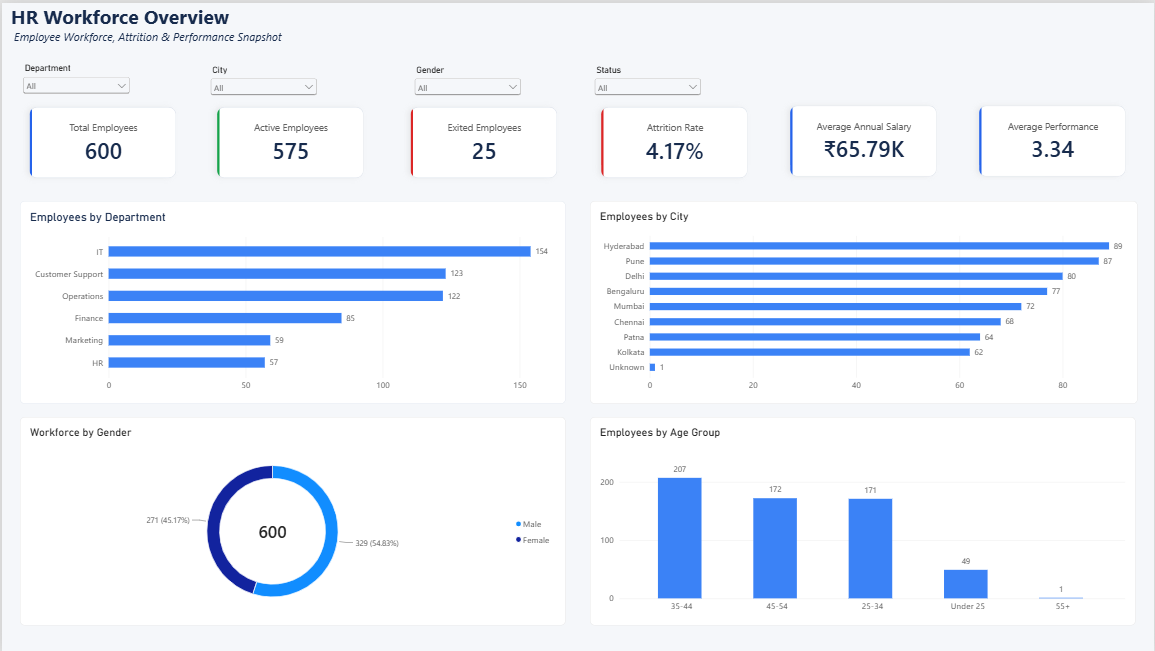

The dashboard page shown, as its layout file describes it:
{"tool":"powerbi","page":{"name":"HR Workforce Overview","canvas":[1920,1080],"ordinal":0},"visuals":[{"type":"cardVisual","fields":{"Data":["hr_analytics hr_employee_analytics.Total Employees"]},"box":[30.1,156.8,276,150],"z":0},{"type":"cardVisual","fields":{"Data":["hr_analytics hr_employee_analytics.Active Employees"]},"box":[341.6,156.8,276,150],"z":1000},{"type":"cardVisual","fields":{"Data":["hr_analytics hr_employee_analytics.Exited Employees"]},"box":[666.1,156.8,276,150],"z":2000},{"type":"cardVisual","fields":{"Data":["hr_analytics hr_employee_analytics.Attrition Rate"]},"box":[981.9,156.8,276,150],"z":3000},{"type":"cardVisual","fields":{"Data":["hr_analytics hr_employee_analytics.Average Annual Salary"]},"box":[1297.7,154.7,276.3,150],"z":4000},{"type":"cardVisual","fields":{"Data":["hr_analytics hr_employee_analytics.Average Performance"]},"box":[1613.6,154,276,150],"z":5000},{"type":"textbox","box":[14,0,1906,76],"z":6000},{"type":"clusteredBarChart","title":"Employees by Department","fields":{"Category":["hr_analytics hr_employee_analytics.department"],"Y":["hr_analytics hr_employee_analytics.Total Employees"]},"box":[31,329,909.3,338.3],"z":7000},{"type":"clusteredBarChart","title":"Employees by City","fields":{"Category":["hr_analytics hr_employee_analytics.city"],"Y":["hr_analytics hr_employee_analytics.Total Employees"]},"box":[980.7,329,912.4,338.3],"z":8000},{"type":"donutChart","title":"Workforce by Gender","fields":{"Category":["hr_analytics hr_employee_analytics.gender"],"Y":["hr_analytics hr_employee_analytics.Total Employees"]},"box":[31,689,909.3,347.6],"z":9000},{"type":"columnChart","title":"Employees by Age Group","fields":{"Category":["hr_analytics hr_employee_analytics.age_group"],"Y":["hr_analytics hr_employee_analytics.Total Employees"]},"box":[980.7,689,909.3,347.6],"z":10000},{"type":"slicer","fields":{"Values":["hr_analytics hr_employee_analytics.department"]},"box":[30,100,187.5,55],"z":10001},{"type":"slicer","fields":{"Values":["hr_analytics hr_employee_analytics.city"]},"box":[342,102.5,187,55],"z":10002},{"type":"slicer","fields":{"Values":["hr_analytics hr_employee_analytics.gender"]},"box":[682.7,102.5,187,55],"z":10003},{"type":"slicer","fields":{"Values":["hr_analytics hr_employee_analytics.status"]},"box":[982.7,102.5,187,55],"z":10004}]}

Visuals, with their boxes in screenshot pixels (x1, y1, x2, y2), scaled from the page's 1920x1080 canvas onto the 1155x651 screenshot:
cardVisual - hr_analytics hr_employee_analytics.Total Employees: <box>18,95,184,185</box>
cardVisual - hr_analytics hr_employee_analytics.Active Employees: <box>205,95,372,185</box>
cardVisual - hr_analytics hr_employee_analytics.Exited Employees: <box>401,95,567,185</box>
cardVisual - hr_analytics hr_employee_analytics.Attrition Rate: <box>591,95,757,185</box>
cardVisual - hr_analytics hr_employee_analytics.Average Annual Salary: <box>781,93,947,184</box>
cardVisual - hr_analytics hr_employee_analytics.Average Performance: <box>971,93,1137,183</box>
textbox: <box>8,0,1154,46</box>
"Employees by Department" clusteredBarChart: <box>19,198,566,402</box>
"Employees by City" clusteredBarChart: <box>590,198,1139,402</box>
"Workforce by Gender" donutChart: <box>19,415,566,625</box>
"Employees by Age Group" columnChart: <box>590,415,1137,625</box>
slicer - hr_analytics hr_employee_analytics.department: <box>18,60,131,93</box>
slicer - hr_analytics hr_employee_analytics.city: <box>206,62,318,95</box>
slicer - hr_analytics hr_employee_analytics.gender: <box>411,62,523,95</box>
slicer - hr_analytics hr_employee_analytics.status: <box>591,62,704,95</box>
